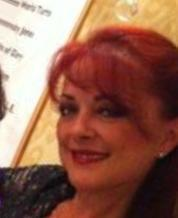face: (59, 91, 125, 166)
